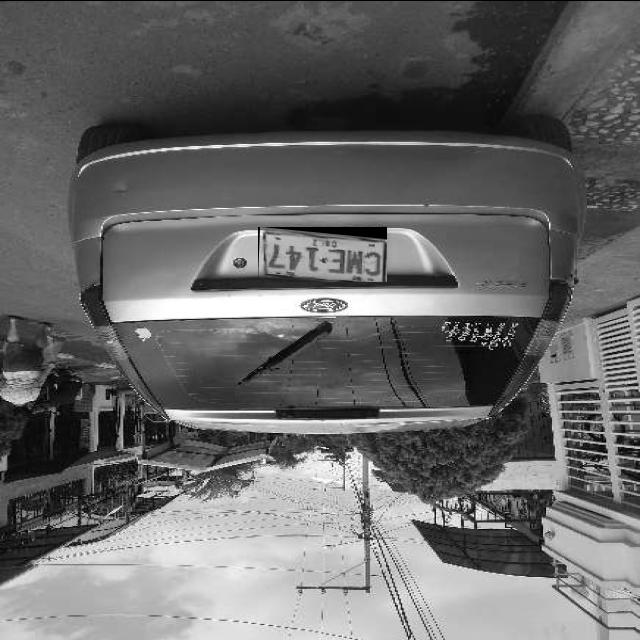plate: (258, 226, 387, 281)
